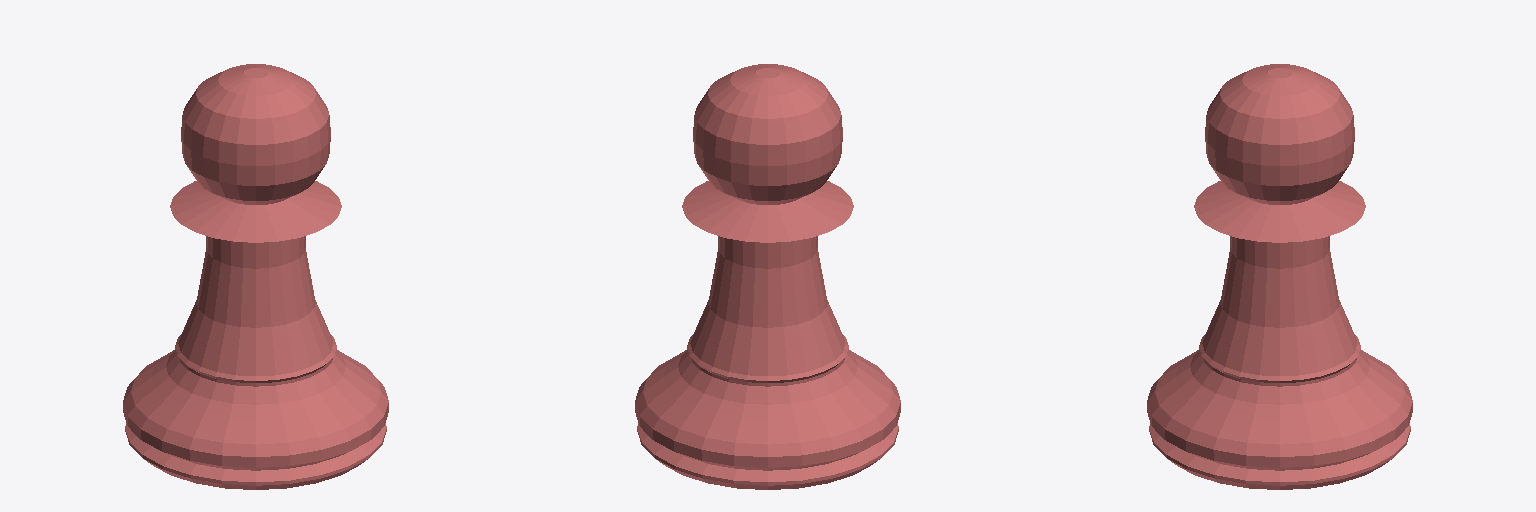
Rendered from pawn0.obj.
3 renders of one model, left to right at view 1: azimuth 30°, elevation 25°; view 2: azimuth 150°, elevation 25°; view 3: azimuth 270°, elevation 25°, orthographic.
Parts seen in each view (by area): view 1: Mesh1_Model.002, Mesh2_Model.002; view 2: Mesh1_Model.002, Mesh2_Model.002; view 3: Mesh1_Model.002, Mesh2_Model.002.
Boxes of the visible parts, x1=… form: Mesh1_Model.002: x1=123, y1=181, x2=388, y2=489; Mesh2_Model.002: x1=181, y1=64, x2=330, y2=204; Mesh1_Model.002: x1=635, y1=181, x2=900, y2=489; Mesh2_Model.002: x1=693, y1=64, x2=842, y2=204; Mesh1_Model.002: x1=1147, y1=181, x2=1412, y2=489; Mesh2_Model.002: x1=1205, y1=64, x2=1354, y2=204.
Bounding box in the file's own units: 0.7033 × 1.07 × 0.7033.